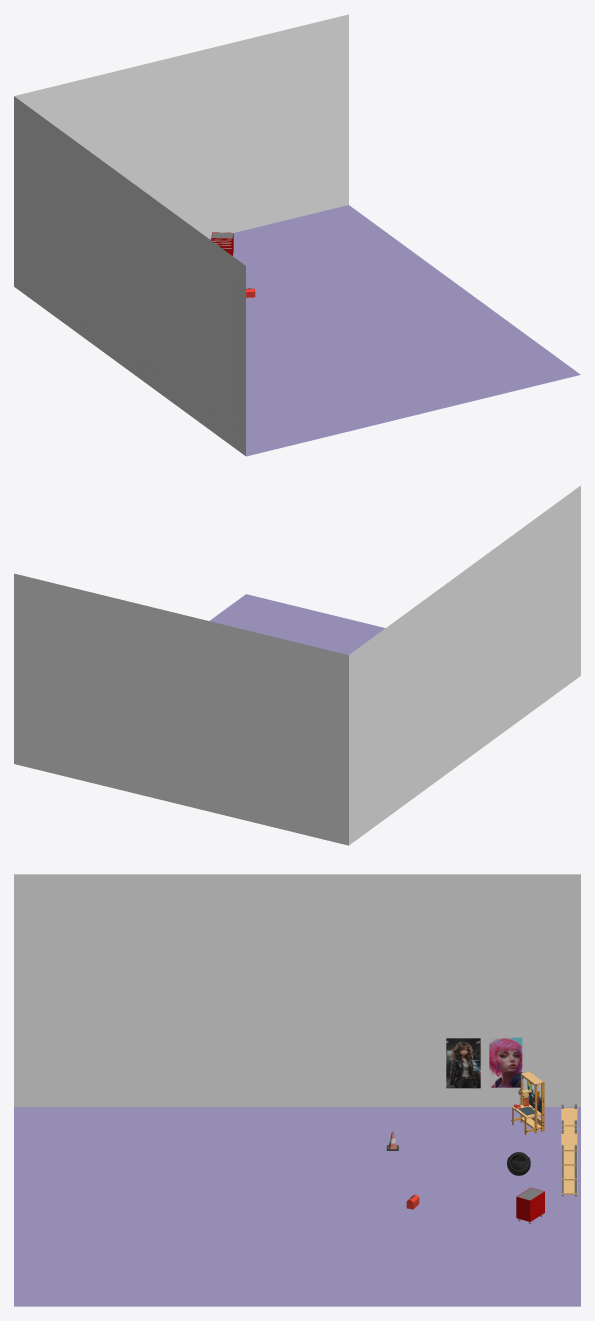
The model's file is garage.glb.
3 views of the same model, one above another, from view 1: azimuth 30°, elevation 25°; view 2: azimuth 150°, elevation 25°; view 3: azimuth 270°, elevation 25° (orthographic). The views are drawn at different scales.
Visible parts, largest first — view 1: Room; view 2: Room; view 3: Room, Poster.001, Poster, Bench, Shelf, Mesh9 Group2 UC_091_1 Model.
Part boxes in pixels (left/top/right/bottom): Room: left=14, top=14, right=580, bottom=456; Room: left=14, top=485, right=580, bottom=845; Room: left=14, top=874, right=580, bottom=1306; Poster.001: left=446, top=1038, right=480, bottom=1088; Poster: left=489, top=1037, right=522, bottom=1087; Bench: left=511, top=1071, right=544, bottom=1134; Shelf: left=561, top=1128, right=577, bottom=1196; Mesh9 Group2 UC_091_1 Model: left=516, top=1187, right=544, bottom=1221.
Bounding box in the file's own units: 22.75 × 12.49 × 27.31.
Materials: 32 (2 with a texture image).
